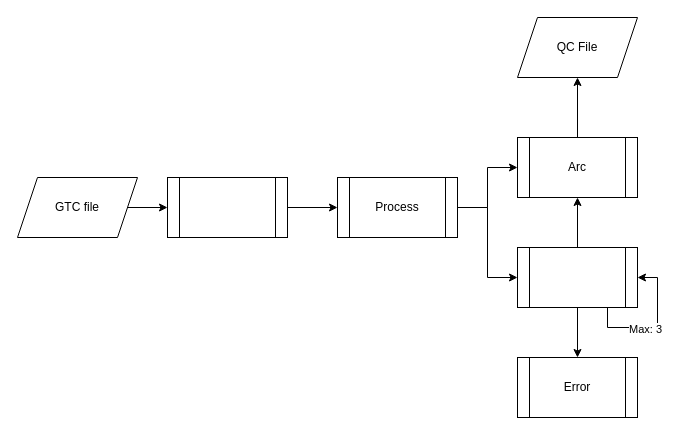
Some shapes in this 683 by 435 pixel diagram are drawn without their labels. The centre of each missing label's shape, as x and y in pixels:
Inbox: the point at 227,207
Retry: the point at 577,277
